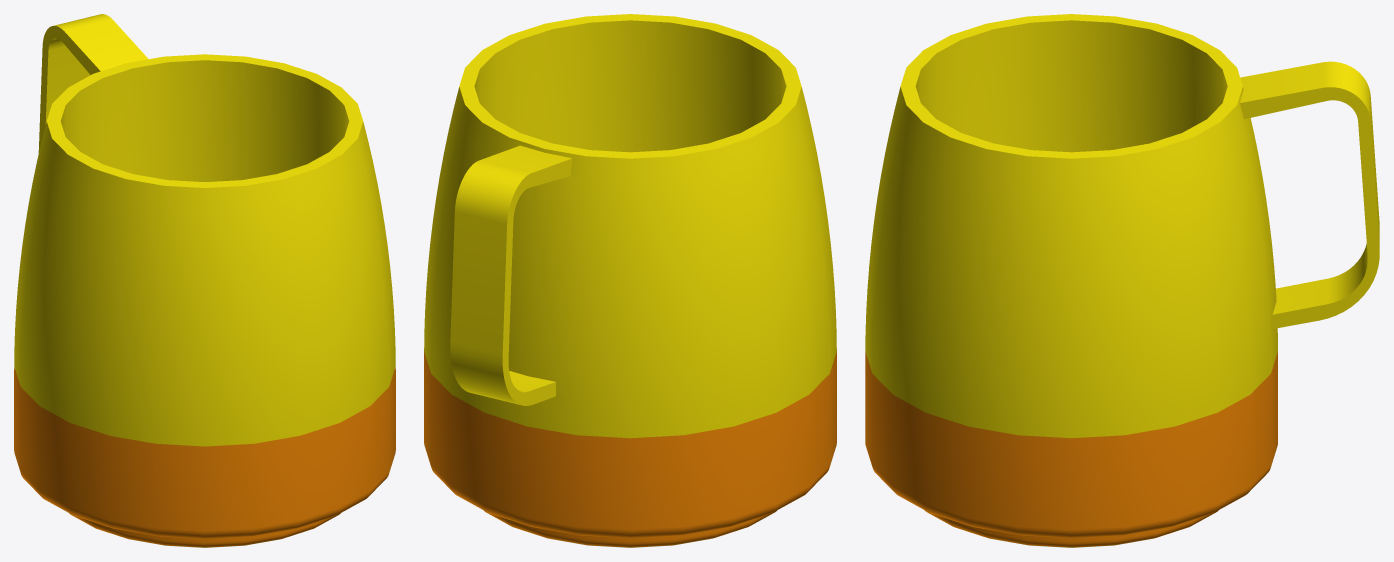
The picture shows the model from 3 angles, left to right: view 1: azimuth 30°, elevation 25°; view 2: azimuth 150°, elevation 25°; view 3: azimuth 270°, elevation 25°; orthographic projection. The views are drawn at different scales.
Parts seen in each view (by area): view 1: mesh1_mesh1-geometry_2, mesh1_mesh1-geometry_1; view 2: mesh1_mesh1-geometry_2, mesh1_mesh1-geometry_1; view 3: mesh1_mesh1-geometry_2, mesh1_mesh1-geometry_1.
Part boxes in pixels (x1=…): mesh1_mesh1-geometry_2: x1=14, y1=14, x2=395, y2=446; mesh1_mesh1-geometry_1: x1=14, y1=367, x2=395, y2=547; mesh1_mesh1-geometry_2: x1=424, y1=14, x2=836, y2=438; mesh1_mesh1-geometry_1: x1=424, y1=351, x2=836, y2=547; mesh1_mesh1-geometry_2: x1=865, y1=14, x2=1379, y2=438; mesh1_mesh1-geometry_1: x1=865, y1=352, x2=1277, y2=547.
Size of the model in its own units: 0.5184 by 0.5603 by 0.646.
